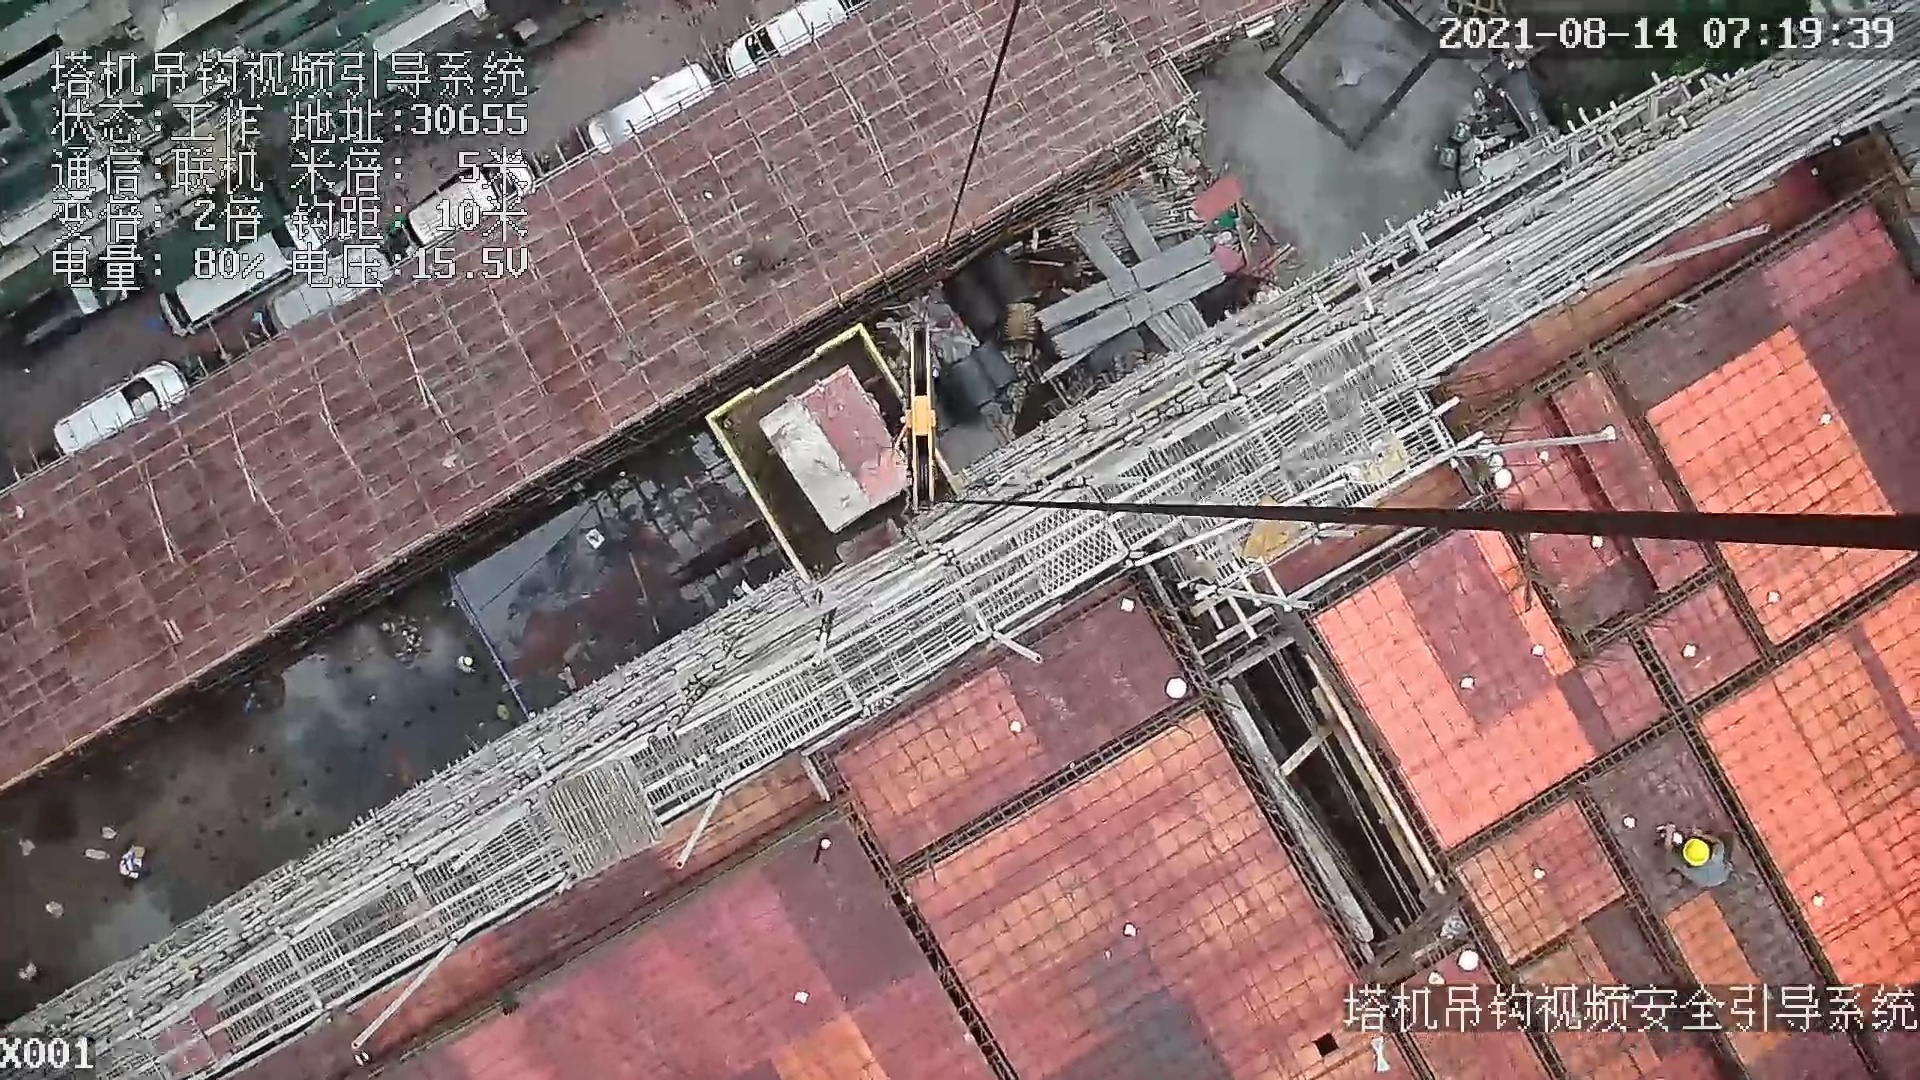helmet: (1677, 834, 1712, 869)
hook: (887, 321, 954, 513)
person: (1664, 818, 1738, 889)
